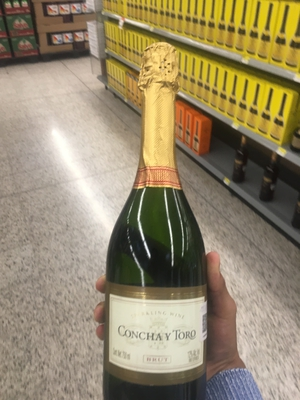brut: (94, 46, 227, 394)
